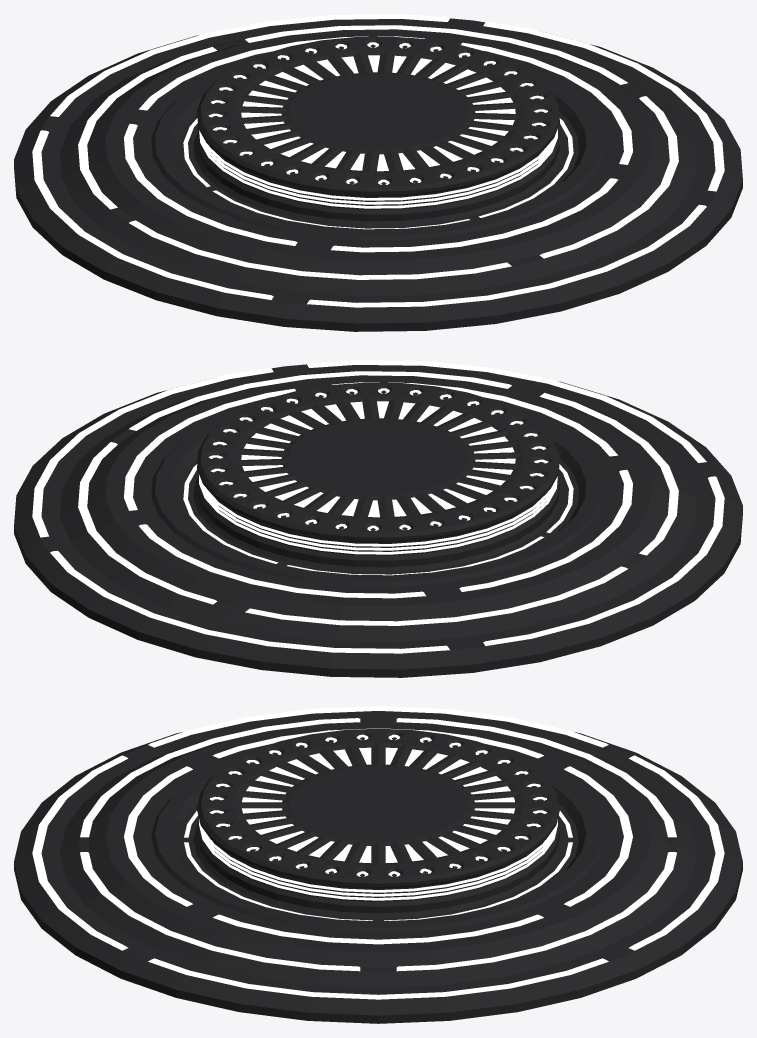
File: showroom-medium.glb
3 renders of one model, top to bottom at view 1: azimuth 30°, elevation 25°; view 2: azimuth 150°, elevation 25°; view 3: azimuth 270°, elevation 25°, orthographic.
Parts seen in each view (by area): view 1: MediumShowRoom_Foundation, MediumShowRoom_Body; view 2: MediumShowRoom_Foundation, MediumShowRoom_Body; view 3: MediumShowRoom_Foundation, MediumShowRoom_Body.
Part boxes in pixels (x1,y1,x2,y2): MediumShowRoom_Foundation: [14, 14, 742, 331]; MediumShowRoom_Body: [197, 36, 559, 221]; MediumShowRoom_Foundation: [14, 360, 742, 677]; MediumShowRoom_Body: [197, 382, 559, 567]; MediumShowRoom_Foundation: [14, 706, 742, 1023]; MediumShowRoom_Body: [197, 728, 559, 913].
Size of the model in its own units: 2000 by 200 by 2000.
Materials: 1 (1 with a texture image).
